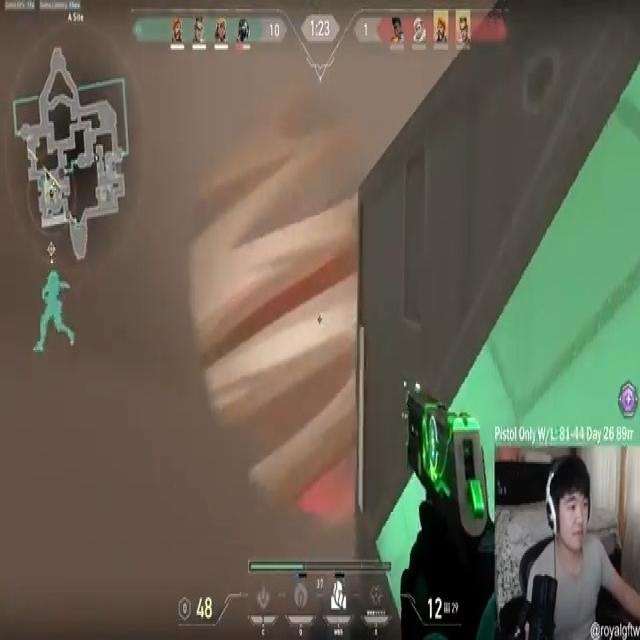ally behind wall: (36, 268, 78, 362)
smoke: (190, 92, 375, 523)
